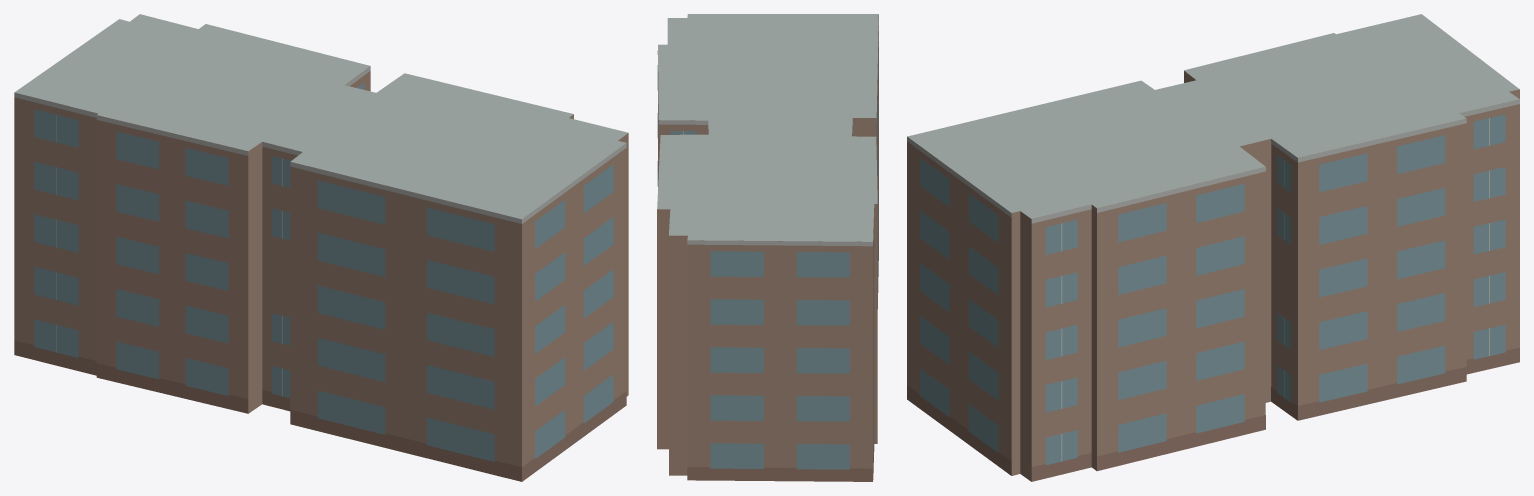
The model's file is survey-upis-32840283.glb.
3 renders of one model, left to right at view 1: azimuth 30°, elevation 25°; view 2: azimuth 150°, elevation 25°; view 3: azimuth 270°, elevation 25°, orthographic. The views are drawn at different scales.
Visible parts, largest first — view 1: survey-upis-32840283.tmp; view 2: survey-upis-32840283.tmp; view 3: survey-upis-32840283.tmp.
Part boxes in pixels (bbox=[...]): survey-upis-32840283.tmp: bbox=[14, 14, 628, 481]; survey-upis-32840283.tmp: bbox=[657, 14, 878, 481]; survey-upis-32840283.tmp: bbox=[907, 14, 1519, 481].
Bounding box in the file's own units: 22.5 × 13.45 × 28.42.
